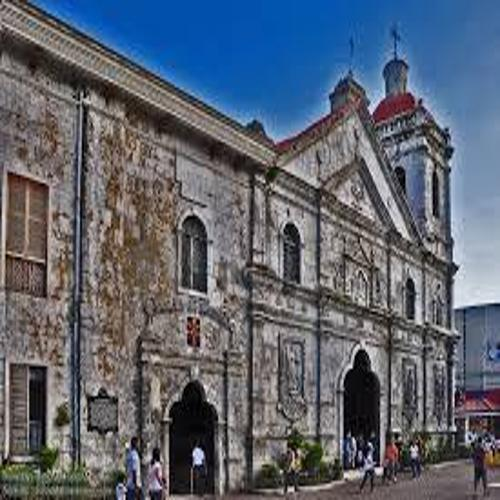Sto. Nino Basilica Church: (256, 18, 465, 477)
